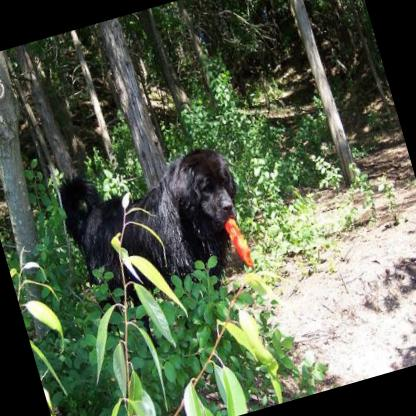Newfoundland: (46, 117, 288, 410)
